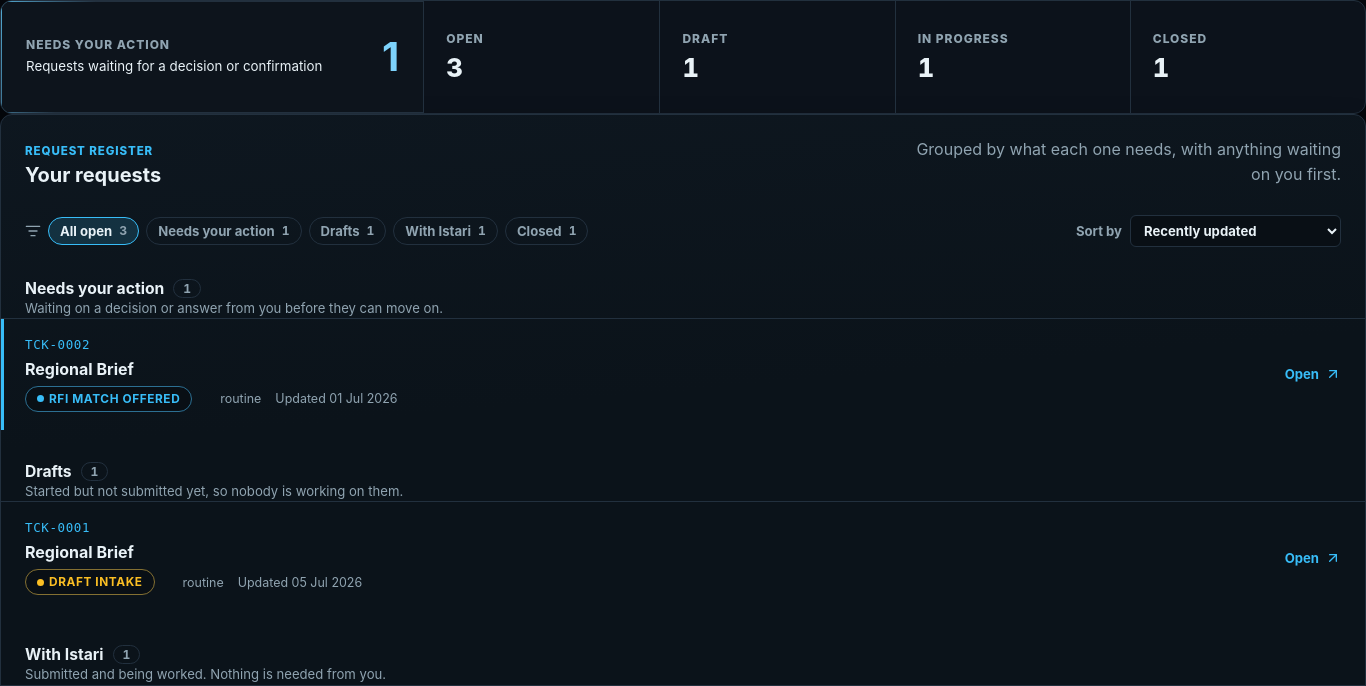
Test case: the closed filter lists closed requests directly
This screenshot has width=1366, height=686.
Click the button "Closed 1" at (547, 231), box x1=505 y1=217 x2=588 y2=245
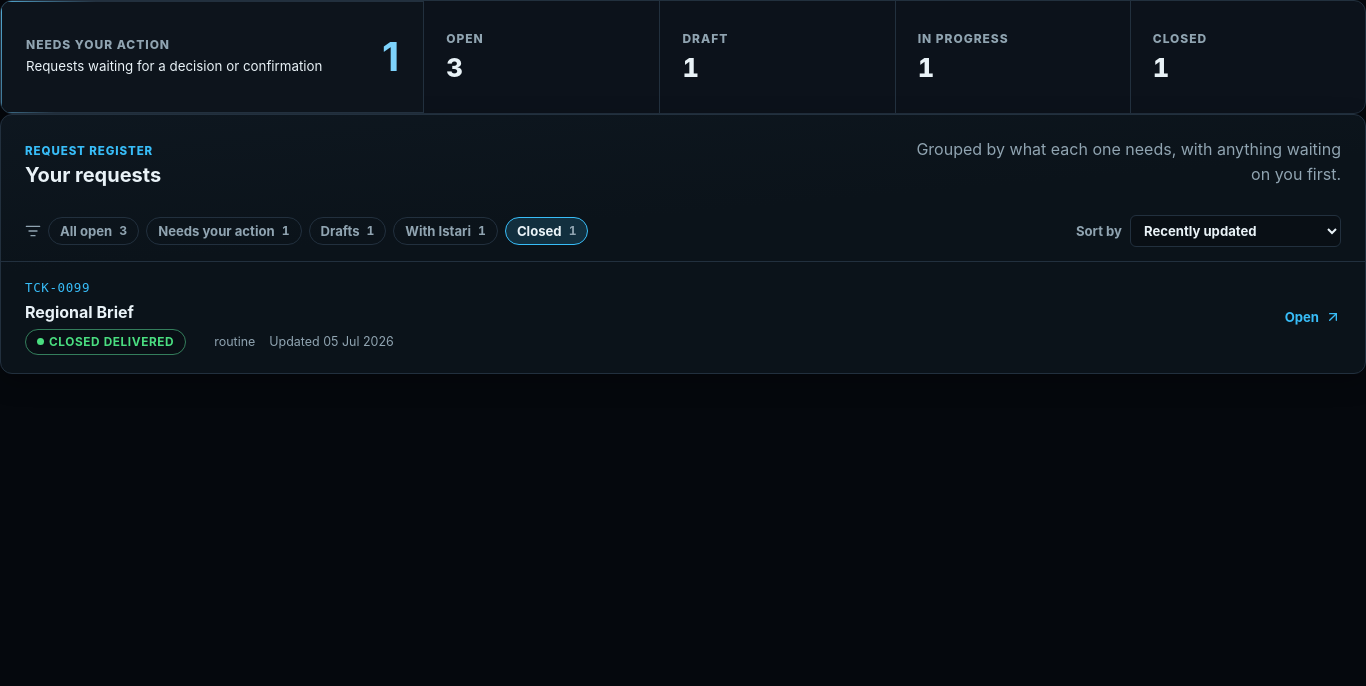
Expected: the button "TCK-0099" is shown, x1=1 y1=262 x2=1365 y2=373
